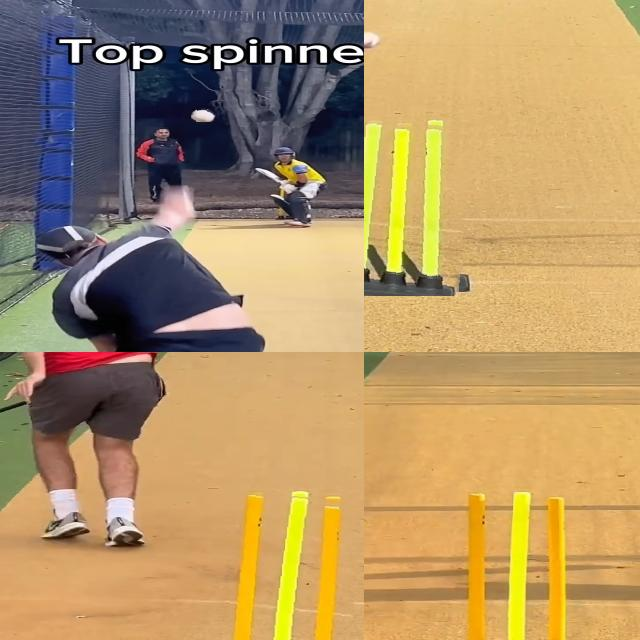Cricket ball: (191, 108, 215, 122)
Stumps: (229, 490, 362, 640), (450, 490, 583, 640), (364, 115, 472, 296)
